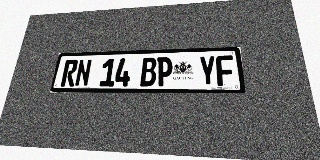1: (99, 58, 117, 86)
4: (114, 58, 131, 86)
B: (140, 57, 157, 86)
F: (215, 55, 235, 86)
N: (74, 59, 92, 86)
P: (156, 57, 172, 86)
R: (60, 60, 78, 87)
Y: (198, 56, 217, 86)
